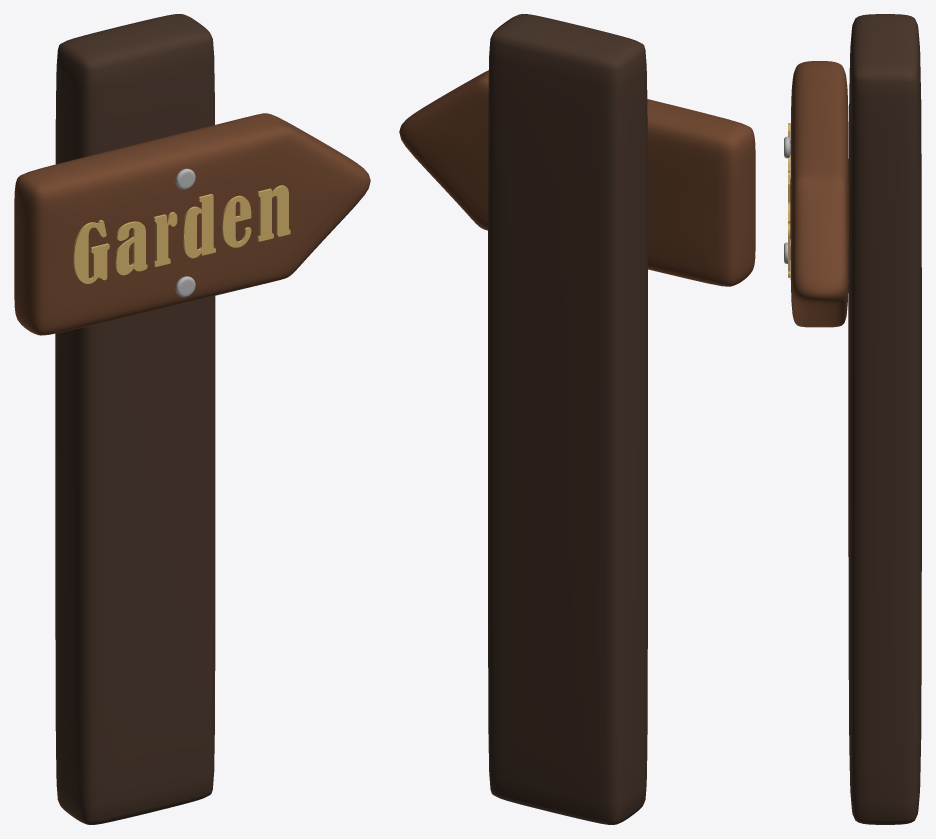
File: Sign_Garden_Empty.glb
The picture shows the model from 3 angles, left to right: view 1: azimuth 30°, elevation 25°; view 2: azimuth 150°, elevation 25°; view 3: azimuth 270°, elevation 25°; orthographic projection.
Visible parts, largest first — view 1: Sign_Garden_Empty_Post, Sign_Garden_Empty_Arrow, Sign_Garden_Empty_Text, Sign_Garden_Empty_Nails; view 2: Sign_Garden_Empty_Post, Sign_Garden_Empty_Arrow; view 3: Sign_Garden_Empty_Post, Sign_Garden_Empty_Arrow, Sign_Garden_Empty_Text.
Boxes of the visible parts, x1,y1,x2,y2 form: Sign_Garden_Empty_Post: (55, 14, 215, 824); Sign_Garden_Empty_Arrow: (14, 113, 370, 335); Sign_Garden_Empty_Text: (73, 185, 290, 283); Sign_Garden_Empty_Nails: (175, 168, 195, 297); Sign_Garden_Empty_Post: (488, 14, 647, 824); Sign_Garden_Empty_Arrow: (399, 70, 755, 286); Sign_Garden_Empty_Post: (848, 14, 921, 824); Sign_Garden_Empty_Arrow: (790, 61, 848, 327); Sign_Garden_Empty_Text: (788, 123, 790, 277).
Size of the model in its own units: 1.63 by 3.5 by 0.5764.
